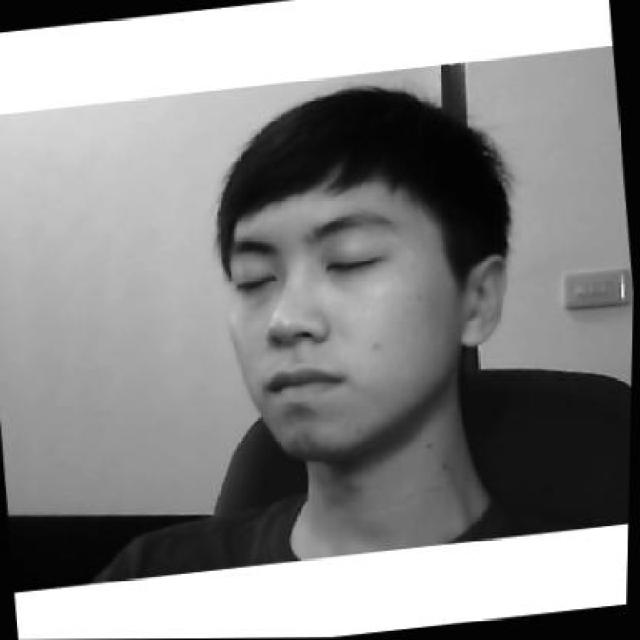inattentif: (200, 71, 532, 471)
